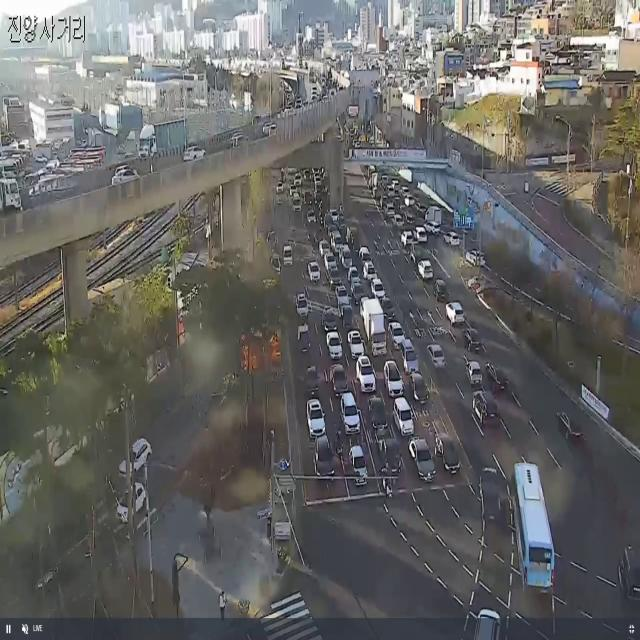bus: (379, 463, 395, 506)
car: (514, 461, 558, 594)
motorcycle: (437, 418, 469, 493), (559, 402, 599, 453), (121, 431, 152, 485), (616, 535, 640, 601), (117, 483, 147, 529), (478, 464, 502, 519), (469, 393, 493, 445), (312, 443, 333, 497), (348, 441, 368, 494), (339, 390, 363, 433), (108, 172, 144, 200), (306, 397, 326, 441), (409, 441, 429, 482), (380, 357, 396, 407), (475, 606, 498, 640), (392, 396, 410, 437), (369, 394, 383, 433), (305, 347, 318, 387), (359, 359, 371, 402), (424, 338, 437, 376), (326, 328, 342, 358), (414, 382, 430, 409), (419, 255, 435, 281), (408, 246, 424, 271), (296, 322, 312, 345), (490, 360, 502, 389), (327, 355, 337, 387), (185, 143, 202, 161), (323, 298, 335, 323), (387, 321, 400, 344), (447, 304, 463, 322), (363, 258, 374, 284), (463, 327, 478, 346), (296, 296, 307, 320), (383, 294, 394, 317), (351, 328, 363, 347), (311, 258, 321, 278), (351, 274, 361, 292), (358, 246, 368, 262), (471, 360, 478, 382), (329, 268, 336, 290), (342, 295, 349, 316), (439, 284, 447, 298), (374, 272, 383, 284), (348, 262, 353, 272), (404, 234, 409, 240)
truck: (138, 116, 189, 164), (361, 298, 388, 360), (376, 429, 406, 477), (0, 173, 20, 226), (423, 197, 445, 225), (282, 241, 291, 270)
